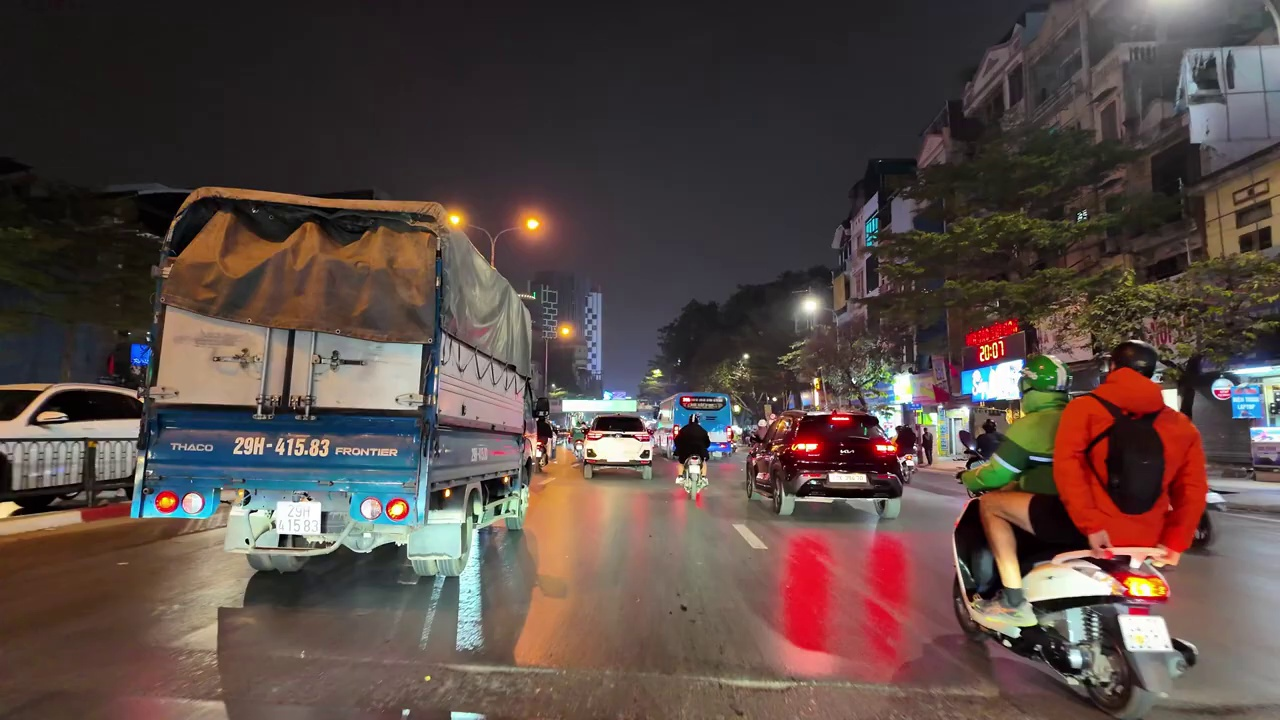acesa: (516, 209, 548, 238), (796, 293, 825, 321), (443, 206, 469, 232), (553, 320, 578, 344)
